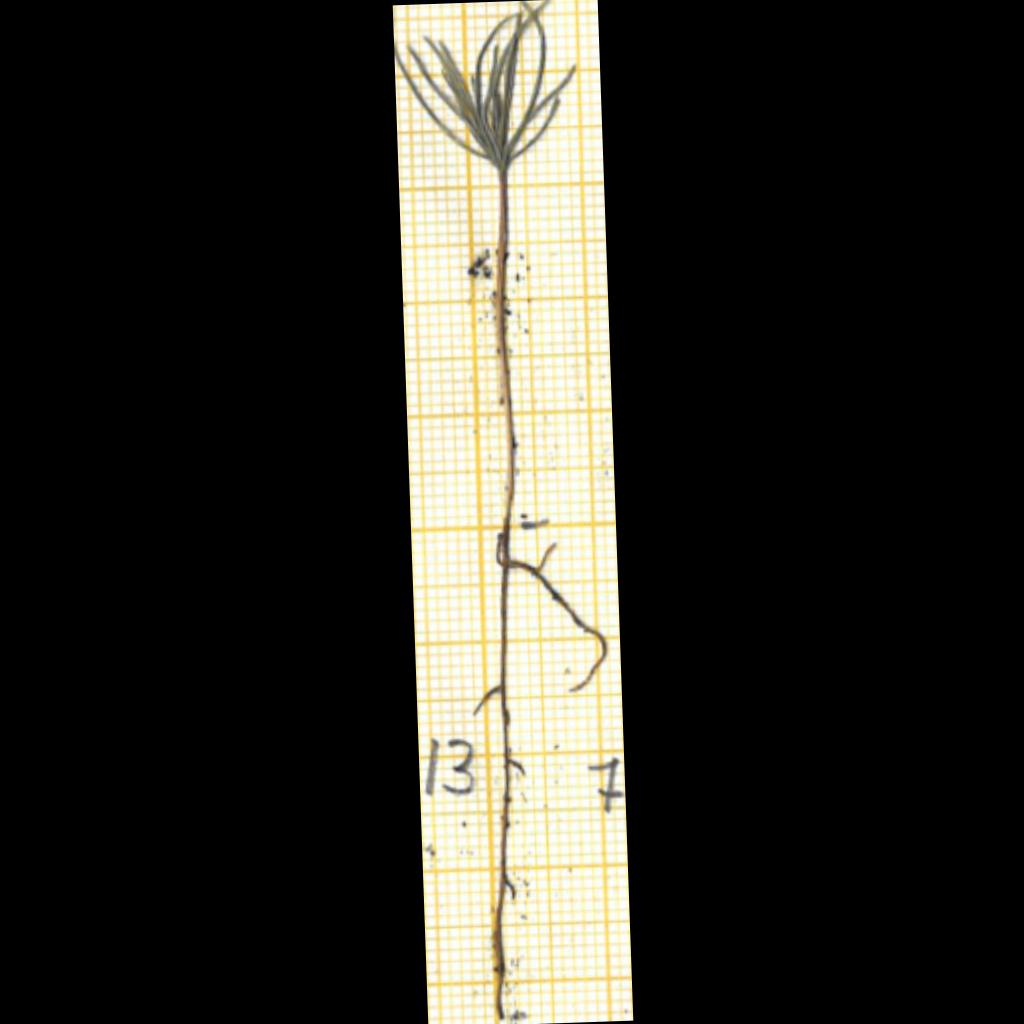flowerPinus: (397, 0, 575, 174)
rootPinus: (476, 533, 606, 1018)
stemPinus: (496, 175, 514, 520)
